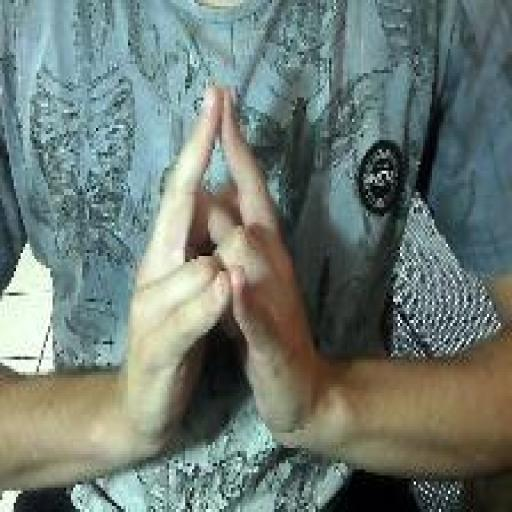Tori -bird-: (119, 78, 320, 456)
